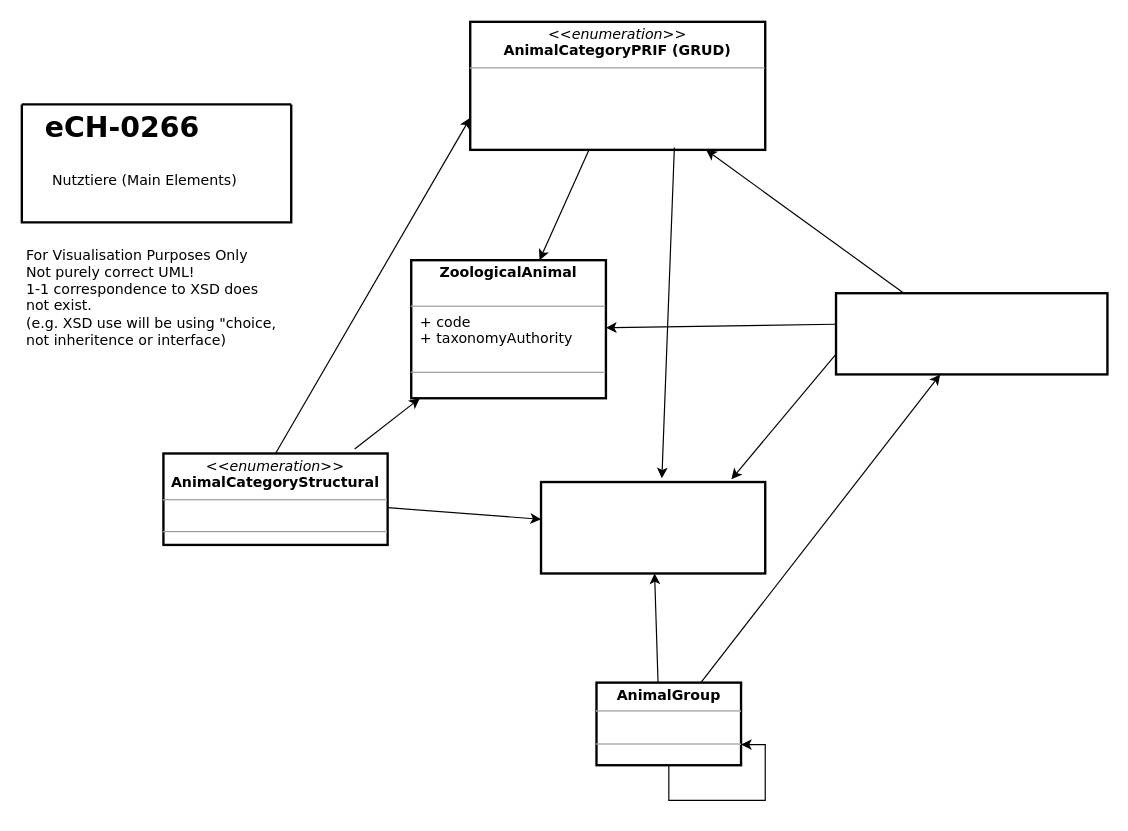
Some shapes in this 1128 by 831 pixel diagram are drawn without their labels. The centre of each missing label's shape, as x and y in pixels:
"<<enumeration>> Utilisation + item: EnumeratedItem" belongs at point (652, 527).
"IndividualAnimal" belongs at point (971, 333).
